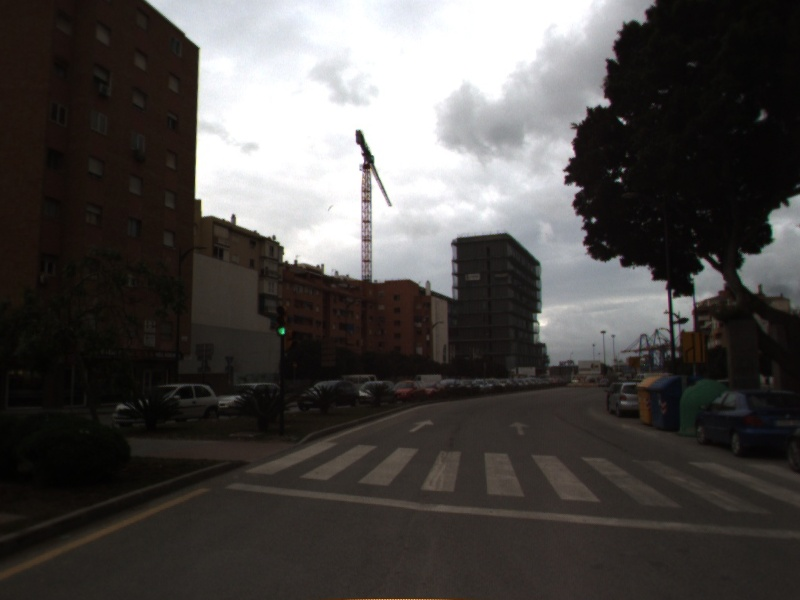STRAIGHT: (406, 418, 436, 434), (507, 420, 533, 437)
